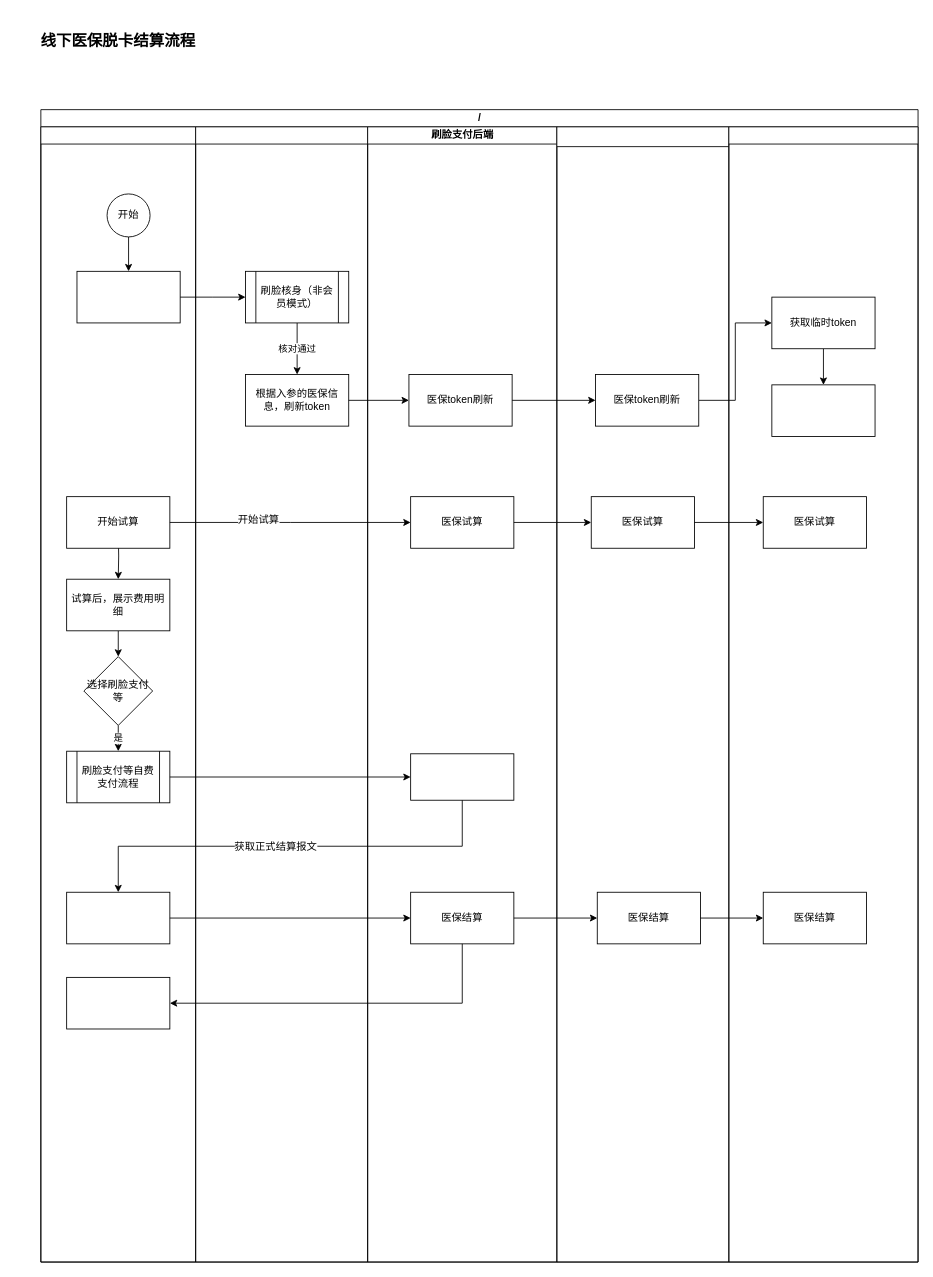
This 933x1277 diagram has some shape labels left out. The shapes that lost their labels are listed below. From the top down, each one's box as (x1, y1, x2, y2) in pixels, then its label:
(76, 270, 180, 323): 医保卡信息（卡号，卡识别码，姓名，身份证号）
(771, 384, 875, 436): 获取正式token
(40, 126, 196, 1262): windows自助机/窗口
(195, 126, 368, 1262): dll刷脸
(556, 126, 729, 1262): 医保通
(728, 126, 918, 1262): 医保
(410, 753, 514, 800): 刷脸支付等支付接口
(66, 891, 170, 944): 正式结算报文
(66, 977, 170, 1029): 支付结果显示
